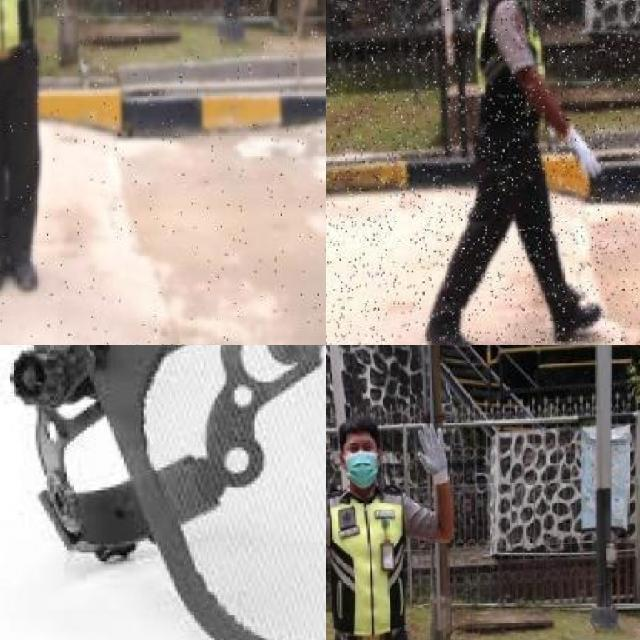apron: (558, 119, 604, 184), (414, 420, 452, 488)
